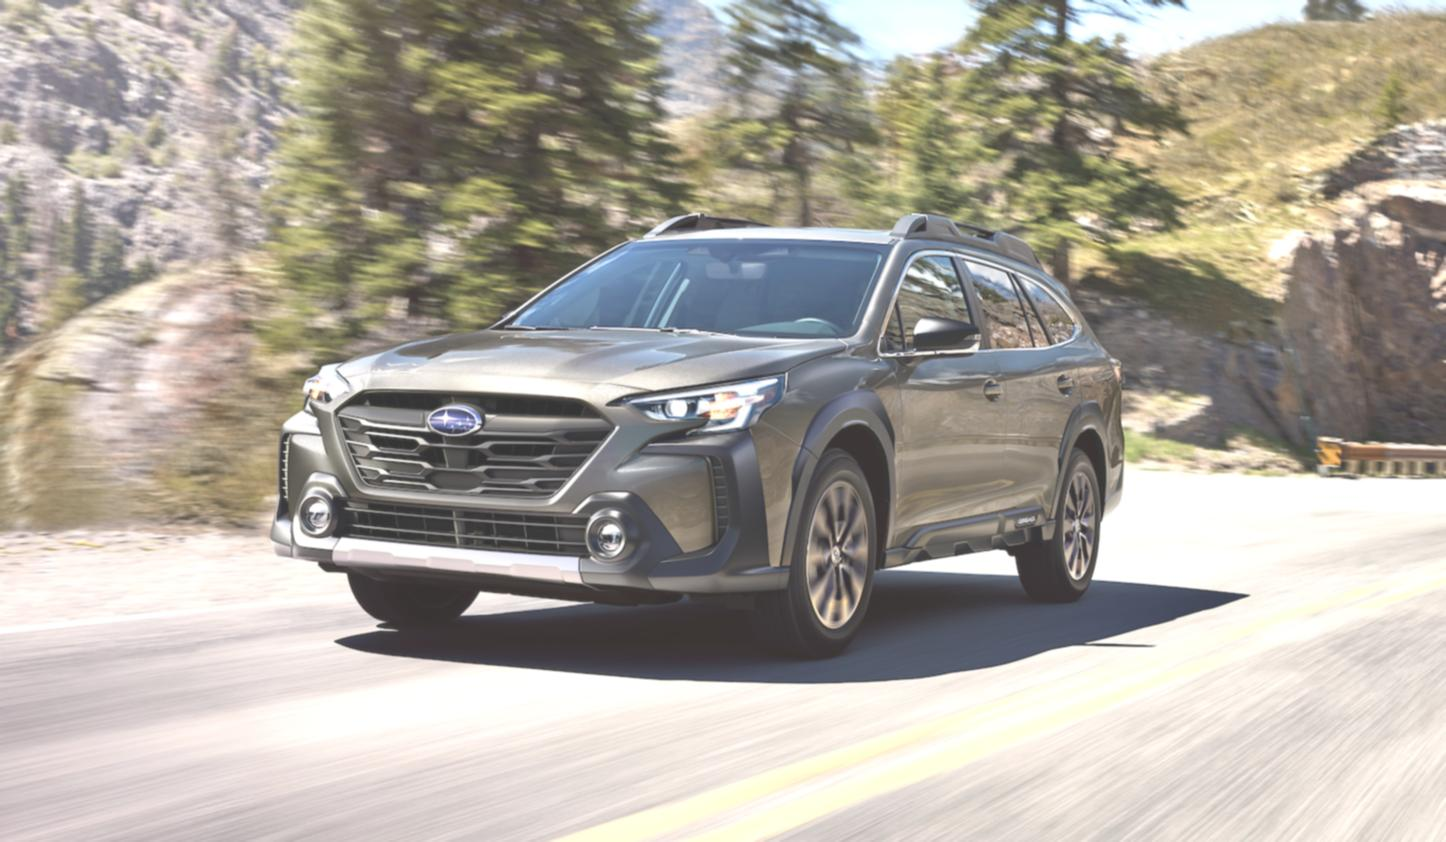subaru: (424, 394, 497, 451)
